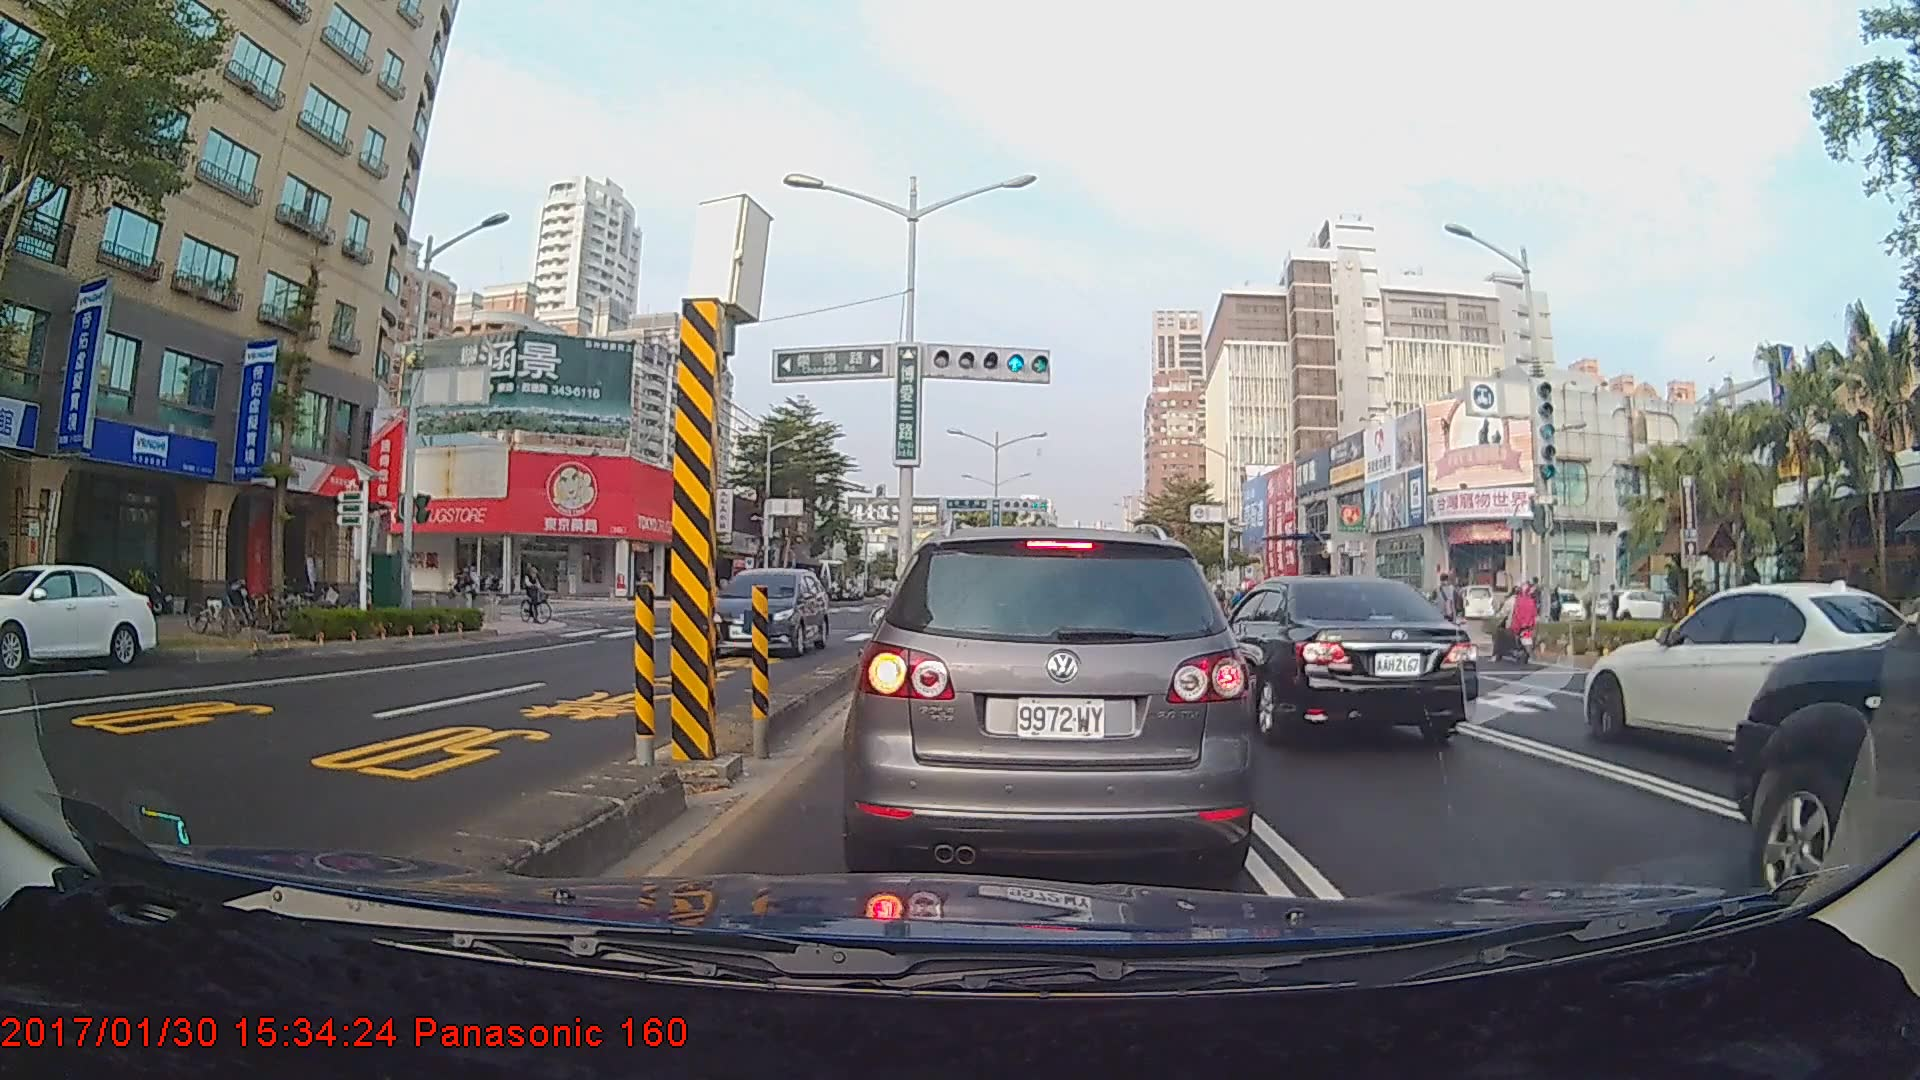pedestrian: (1601, 581, 1622, 640)
rider: (1485, 582, 1548, 668), (518, 559, 561, 629), (449, 563, 489, 603)
vehicle: (854, 523, 1248, 879), (1581, 583, 1914, 761), (1180, 573, 1479, 750), (0, 561, 157, 671), (702, 564, 831, 657)
